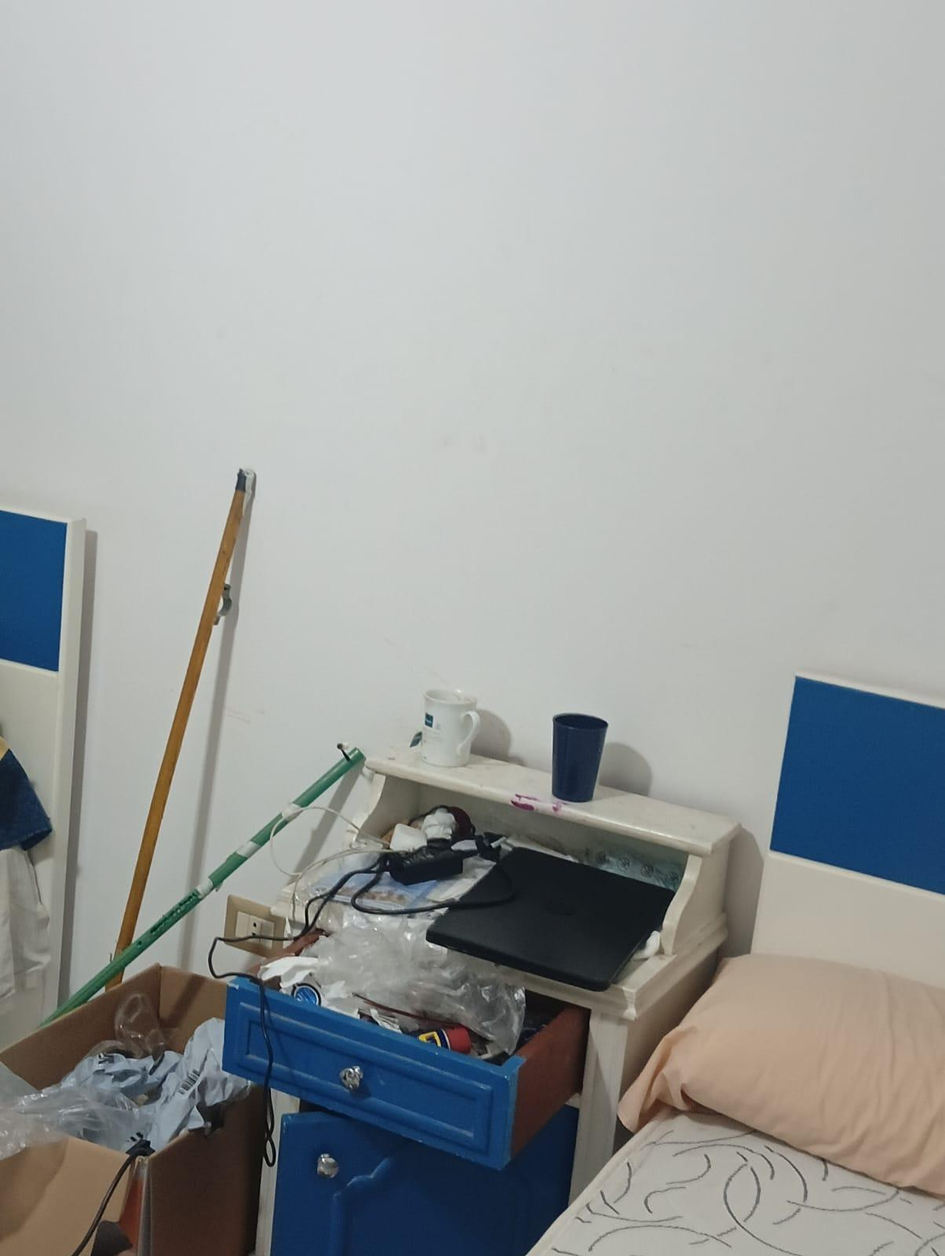cup: (552, 714, 608, 801), (421, 688, 480, 766)
